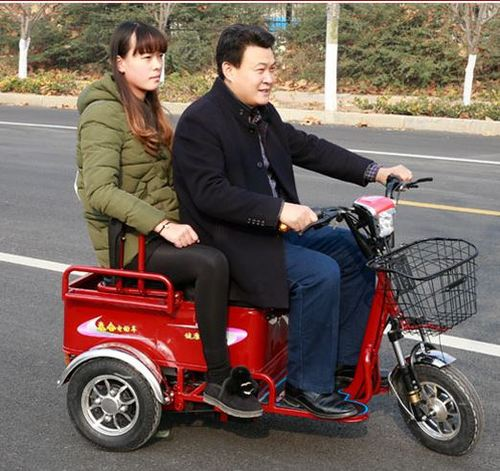driver: (182, 22, 373, 423)
overloading: (43, 18, 488, 454)
passenger: (63, 22, 219, 425)
